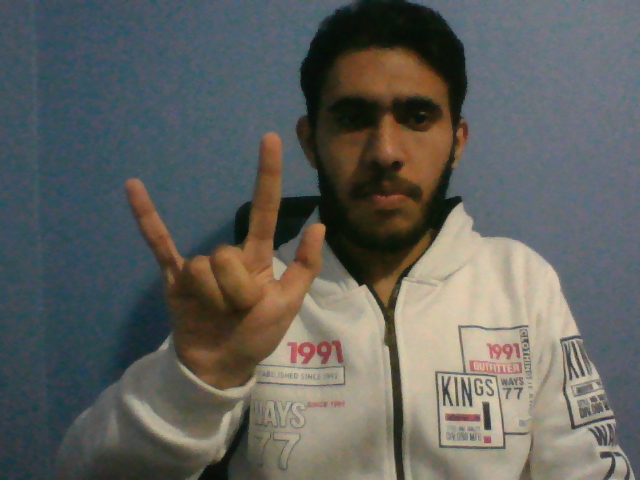iloveyou: (122, 130, 327, 394)
